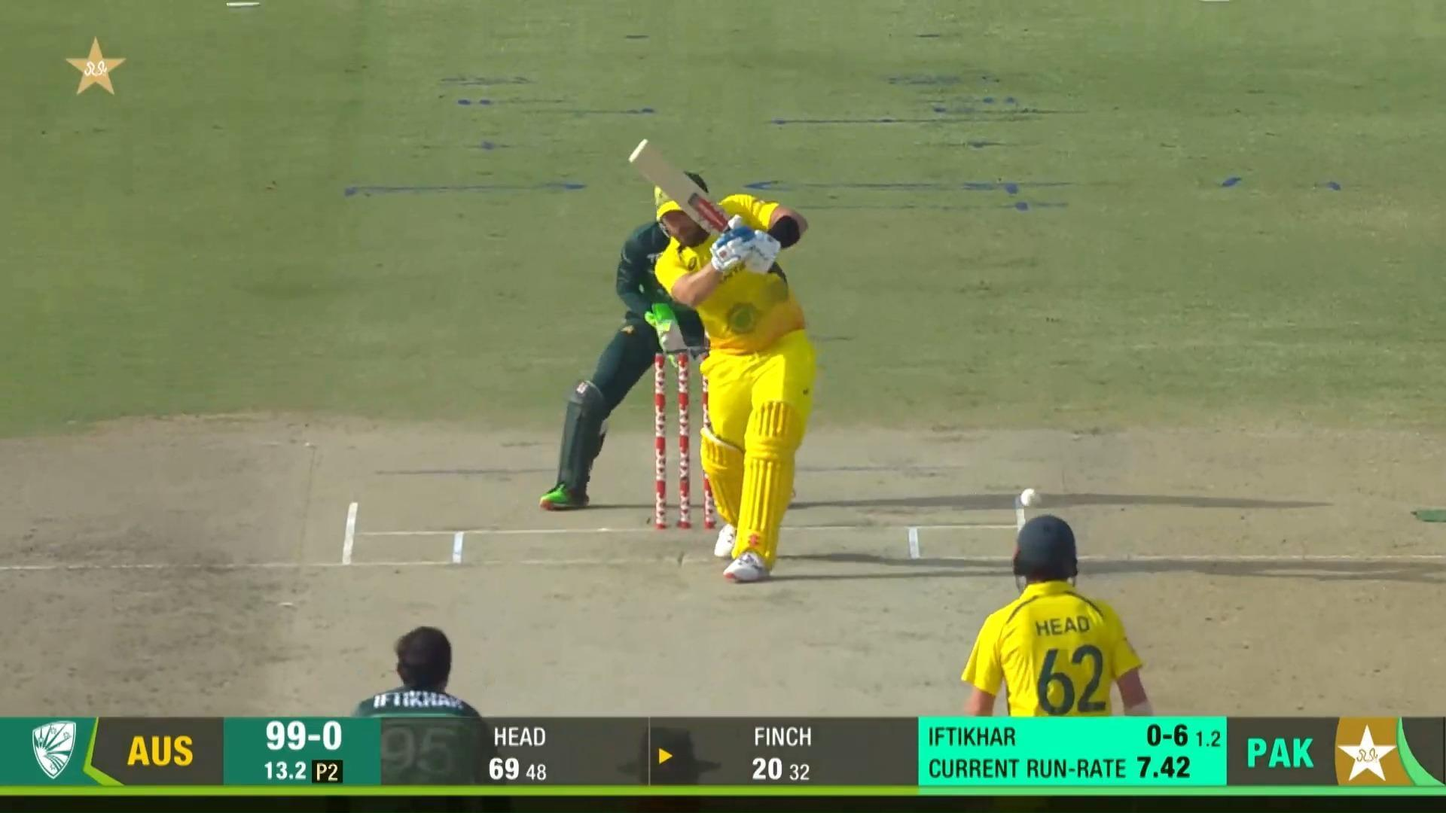BM 1: (629, 137, 819, 584)
BO: (354, 626, 482, 716)
